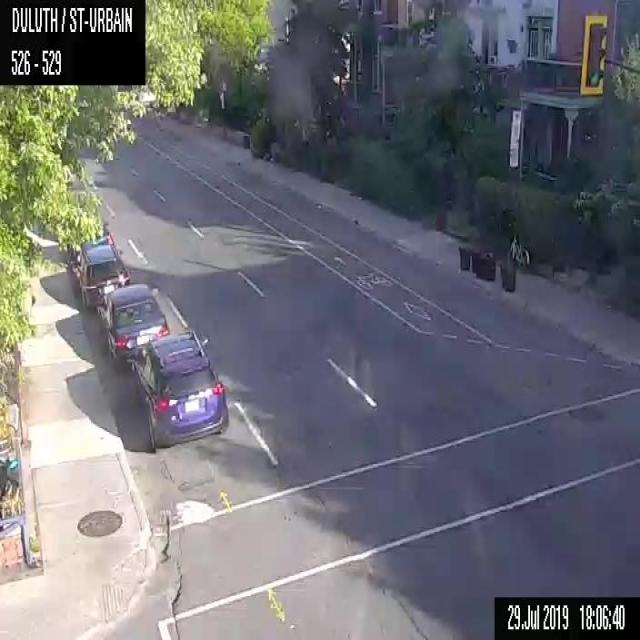vehicle: (133, 329, 228, 452), (98, 283, 170, 363), (74, 244, 130, 312)
